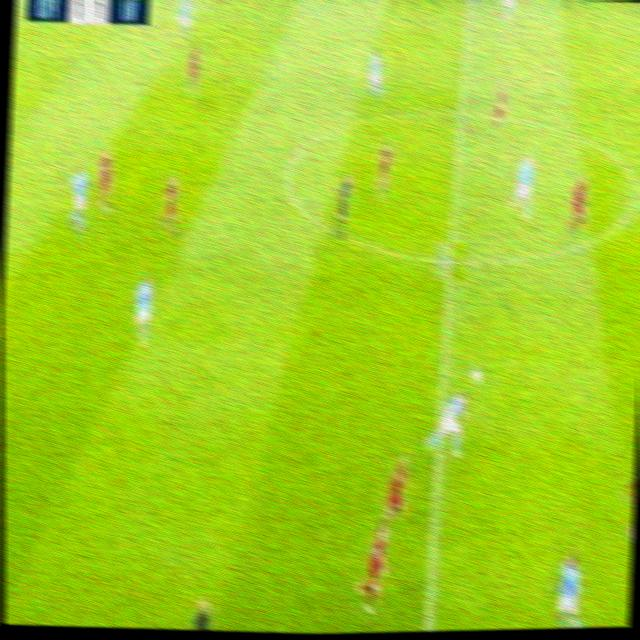halfcircle_bottom: (432, 240, 468, 281)
halfcircle_top: (444, 97, 478, 131)
midline_top_intersection: (455, 0, 482, 12)
